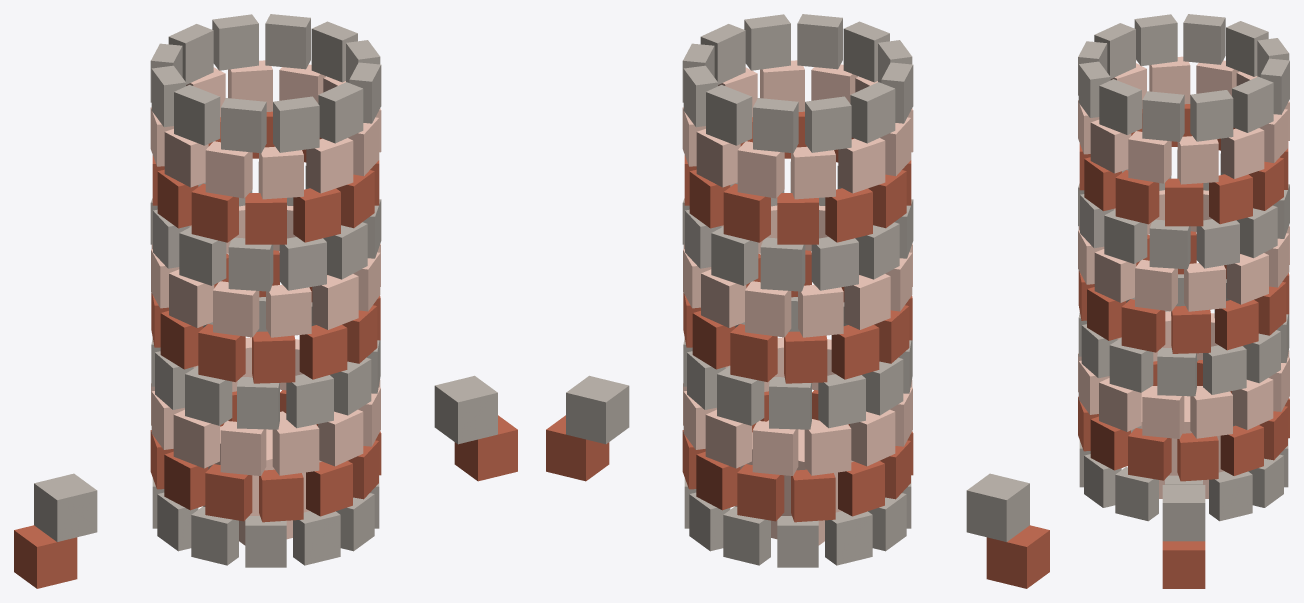
Rendered from tower.glb.
The picture shows the model from 3 angles, left to right: view 1: azimuth 30°, elevation 25°; view 2: azimuth 150°, elevation 25°; view 3: azimuth 270°, elevation 25°; orthographic projection. The views are drawn at different scales.
Visible parts, largest first — view 1: Mirrored stem, Unmirrored stem, Mirrored foot, Unmirrored foot, Block 9.6, Block 9.8, Block 9.0, Block 9.1, Block 9.7, Block 9.5, Block 2.4, Block 4.4 (+58 smaller); view 2: Mirrored stem, Unmirrored stem, Mirrored foot, Unmirrored foot, Block 9.10, Block 9.0, Block 9.4, Block 9.5, Block 9.11, Block 9.9, Block 2.8, Block 4.8 (+58 smaller); view 3: Unmirrored stem, Unmirrored foot, Block 9.2, Block 9.3, Block 9.9, Block 9.4, Block 9.8, Block 9.1, Block 4.2, Block 6.1, Block 7.3, Block 3.0 (+58 smaller).
Boxes of the visible parts, <box> form: Mirrored stem: <box>34,473,97,541</box>; Unmirrored stem: <box>434,375,497,444</box>; Mirrored foot: <box>14,525,77,588</box>; Unmirrored foot: <box>454,415,517,481</box>; Block 9.6: <box>273,96,319,152</box>; Block 9.8: <box>174,85,220,145</box>; Block 9.0: <box>212,14,258,70</box>; Block 9.1: <box>265,14,310,69</box>; Block 9.7: <box>221,98,266,153</box>; Block 9.5: <box>318,82,363,143</box>; Block 2.4: <box>272,422,319,475</box>; Block 4.4: <box>299,325,347,379</box>; Mirrored stem: <box>966,473,1029,541</box>; Unmirrored stem: <box>566,375,629,444</box>; Mirrored foot: <box>986,525,1049,588</box>; Unmirrored foot: <box>546,415,609,481</box>; Block 9.10: <box>805,96,851,152</box>; Block 9.0: <box>706,85,752,145</box>; Block 9.4: <box>744,14,790,70</box>; Block 9.5: <box>797,14,842,69</box>; Block 9.11: <box>753,98,798,153</box>; Block 9.9: <box>850,82,895,143</box>; Block 2.8: <box>804,422,851,475</box>; Block 4.8: <box>831,325,879,379</box>; Unmirrored stem: <box>1162,485,1205,541</box>; Unmirrored foot: <box>1162,541,1205,588</box>; Block 9.2: <box>1190,90,1233,141</box>; Block 9.3: <box>1142,91,1184,141</box>; Block 9.9: <box>1183,14,1225,64</box>; Block 9.4: <box>1099,79,1141,134</box>; Block 9.8: <box>1134,14,1177,66</box>; Block 9.1: <box>1232,76,1273,132</box>; Block 4.2: <box>1121,299,1165,352</box>; Block 6.1: <box>1196,219,1239,268</box>; Block 7.3: <box>1115,170,1159,224</box>; Block 3.0: <box>1203,345,1246,394</box>.
Size of the model in its own units: 12 by 10.95 by 4.98.
